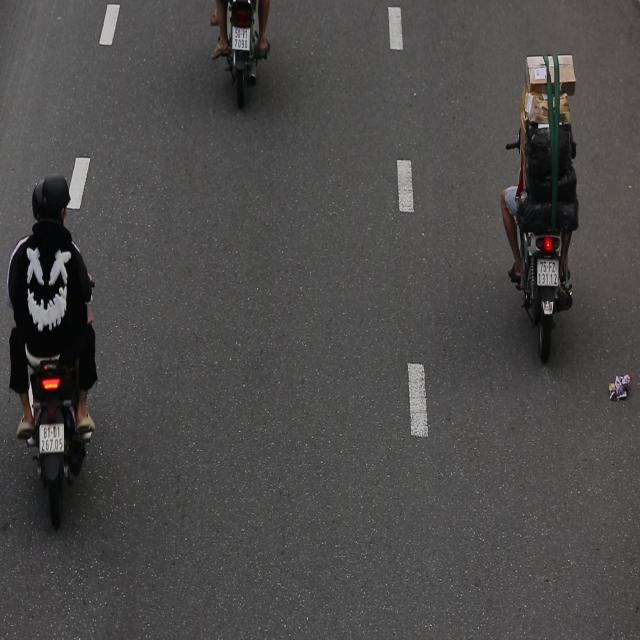motorbike: (0, 168, 112, 536), (492, 44, 590, 388)
